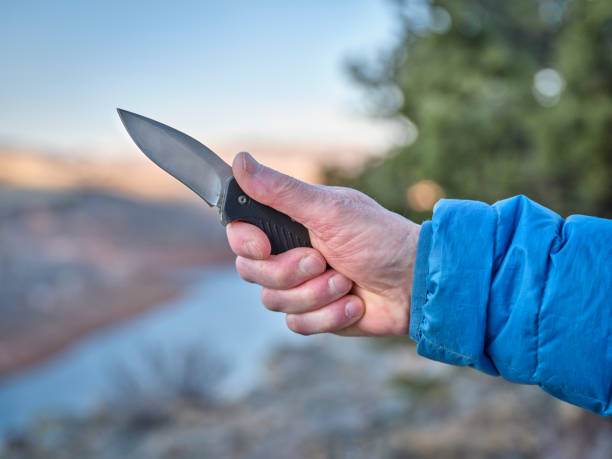knife: (112, 105, 316, 258)
